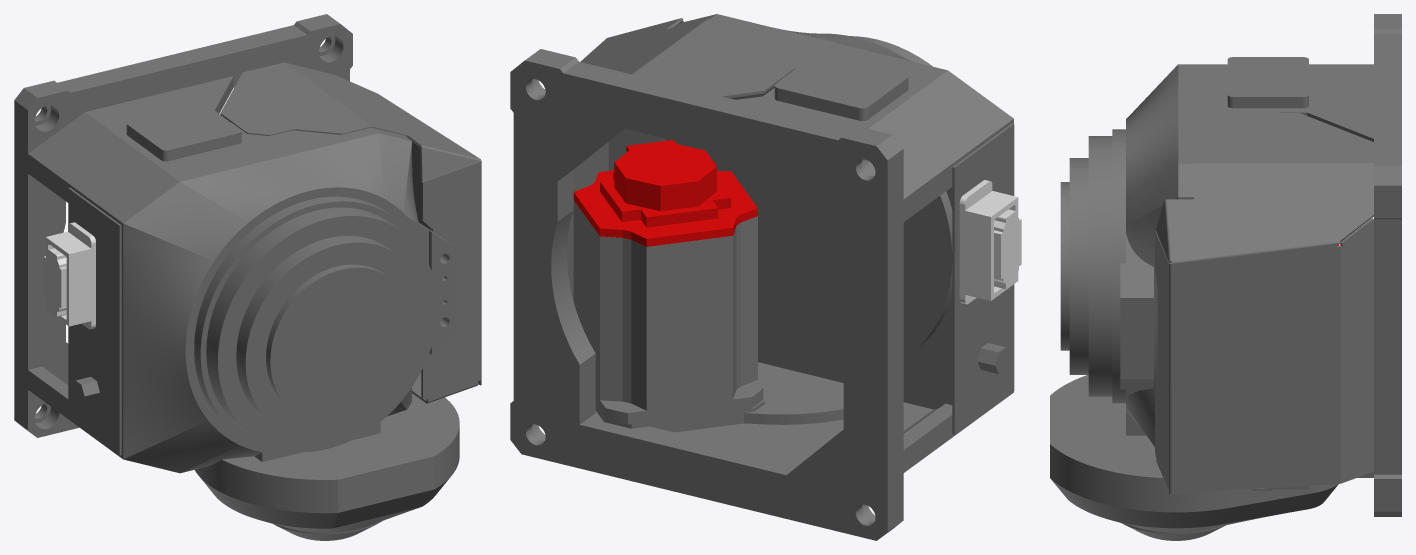
3 renders of one model, left to right at view 1: azimuth 30°, elevation 25°; view 2: azimuth 150°, elevation 25°; view 3: azimuth 270°, elevation 25°, orthographic. The views are drawn at different scales.
Parts seen in each view (by area): view 1: Mesh_0-mesh, Mesh_0-mesh_2; view 2: Mesh_0-mesh, Mesh_0-mesh_1, Mesh_0-mesh_2; view 3: Mesh_0-mesh.
Part boxes in pixels (x1,y1,x2,y2): Mesh_0-mesh: (14, 14, 481, 540); Mesh_0-mesh_2: (43, 222, 95, 329); Mesh_0-mesh: (510, 14, 1014, 540); Mesh_0-mesh_1: (573, 140, 757, 246); Mesh_0-mesh_2: (959, 180, 1021, 304); Mesh_0-mesh: (1050, 14, 1401, 540).
Bounding box in the file's own units: 0.4105 × 0.4125 × 0.313.
